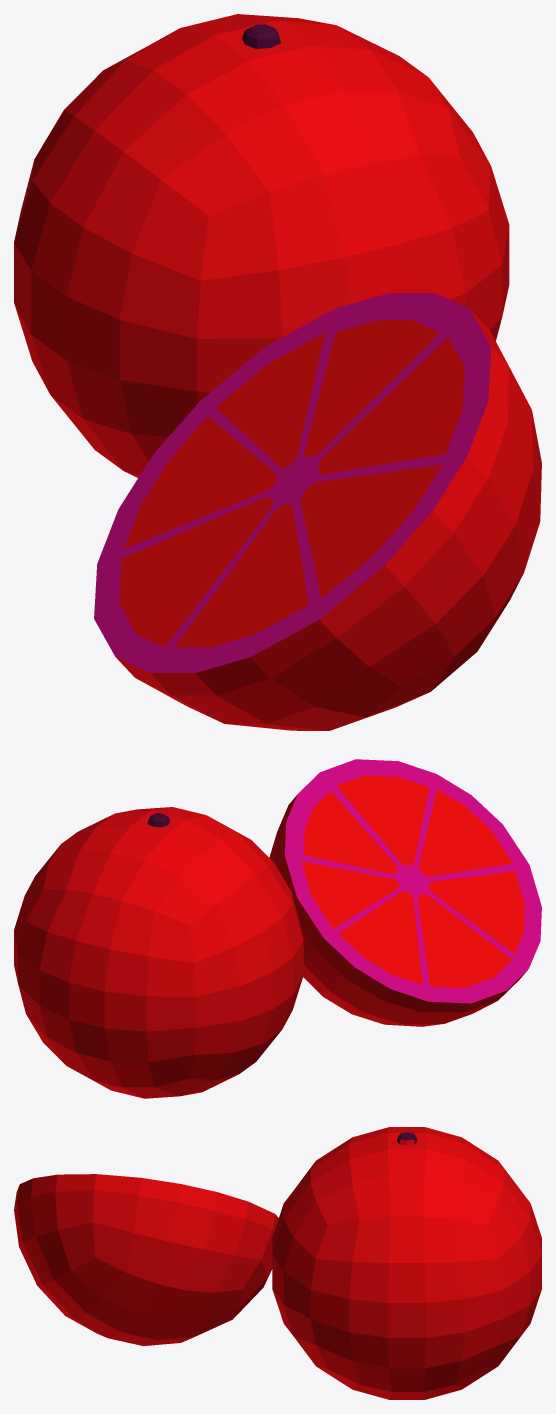
Rendered from Orange_02.fbx.
3 renders of one model, top to bottom at view 1: azimuth 30°, elevation 25°; view 2: azimuth 150°, elevation 25°; view 3: azimuth 270°, elevation 25°, orthographic. The views are drawn at different scales.
Parts seen in each view (by area): view 1: Orange_02; view 2: Orange_02; view 3: Orange_02.
Boxes of the visible parts, x1=… form: Orange_02: x1=14, y1=14, x2=541, y2=730; Orange_02: x1=14, y1=759, x2=541, y2=1098; Orange_02: x1=14, y1=1127, x2=541, y2=1399.
Bounding box in the file's own units: 4.66 × 3.49 × 6.64.
